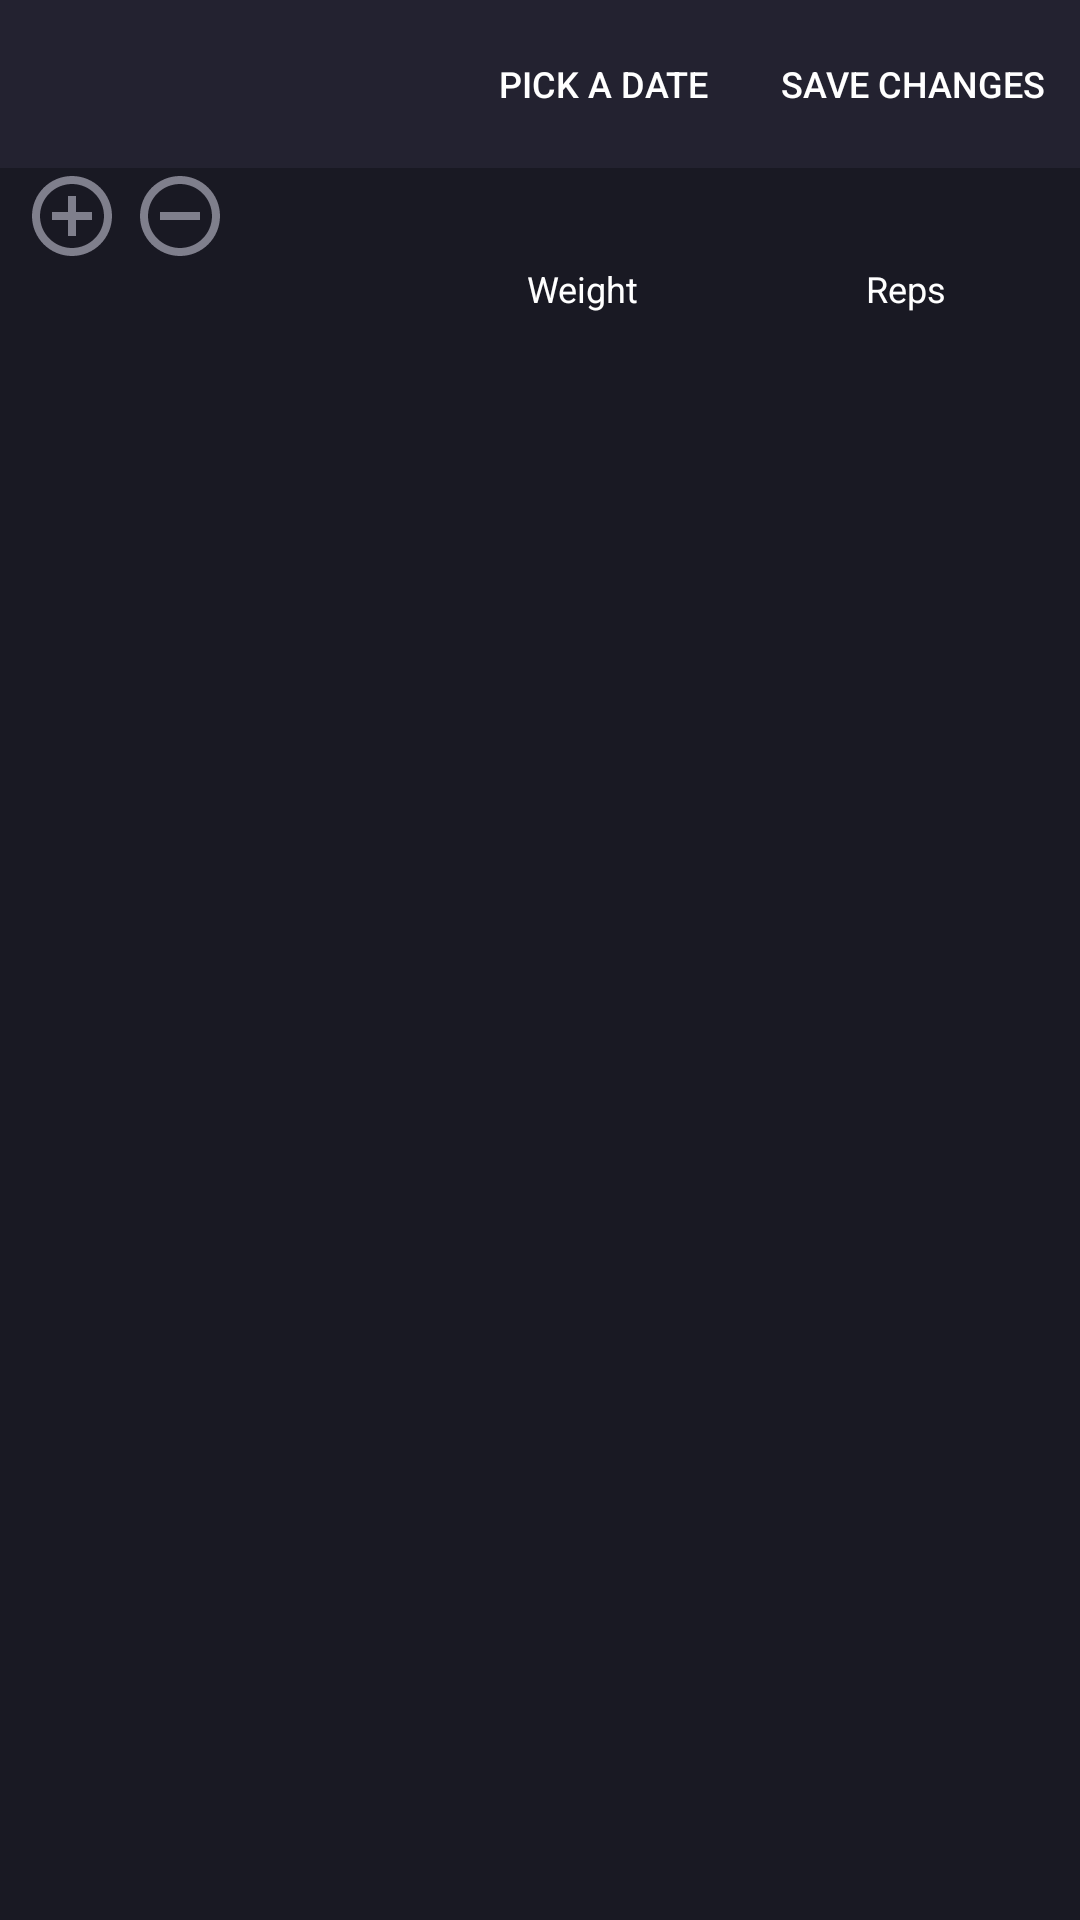

Named icons in this screenshot (1080w x 1920h) and their centers, (x,y):
add circle: (72,216)
minus circle: (180,216)
